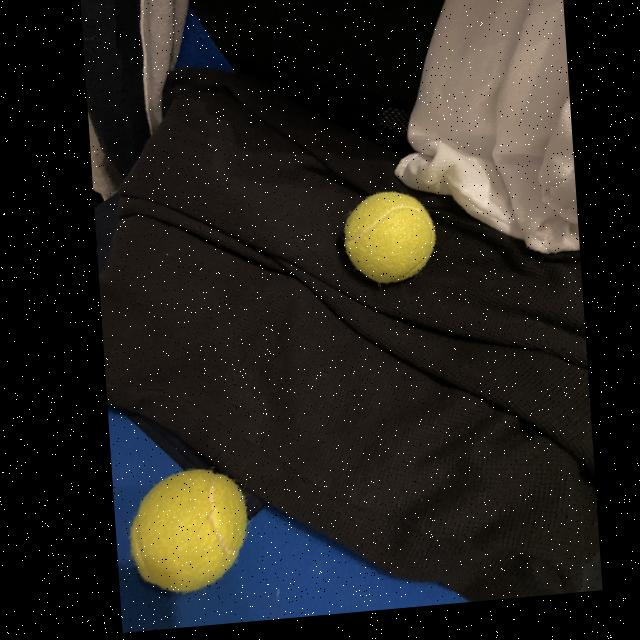Tennisball: (129, 469, 248, 593), (344, 192, 436, 285)
